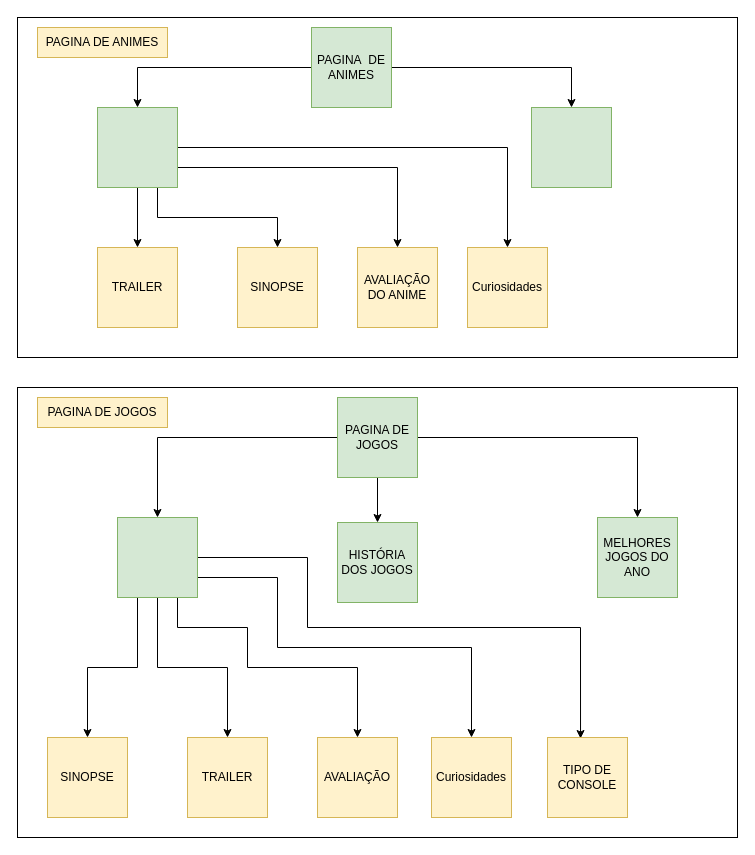
This 755x855 diagram has some shape labels left out. The centre of each missing label's shape, as x and y in pixels:
"CATEGORIA DOS JOGOS" belongs at point (157, 557).
"CATEGORIAS DE ANIMES" belongs at point (137, 147).
"MELHORES ANIMES DO ANO" belongs at point (571, 147).
